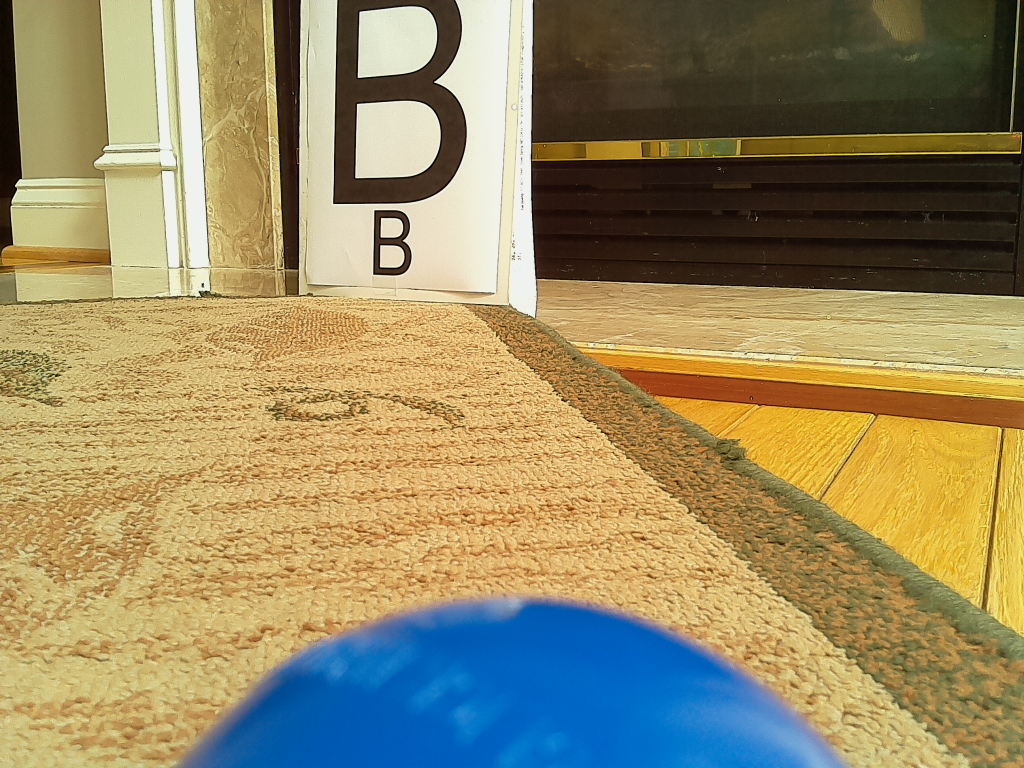letter: (335, 1, 466, 205)
